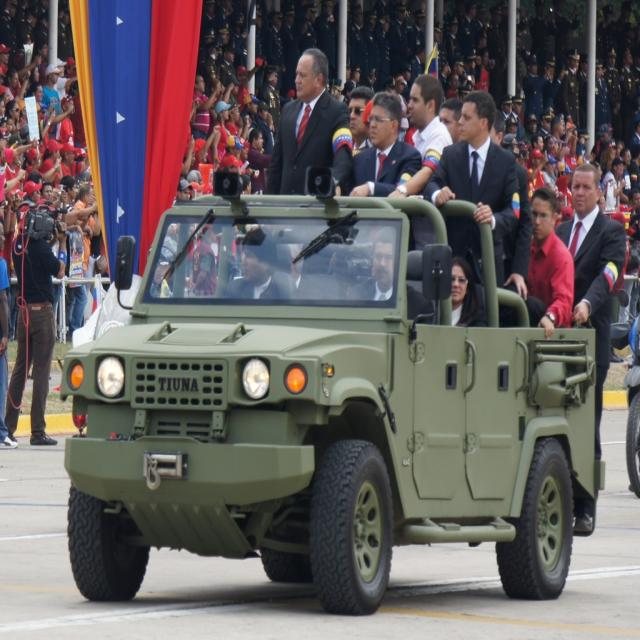car: (31, 156, 587, 591)
